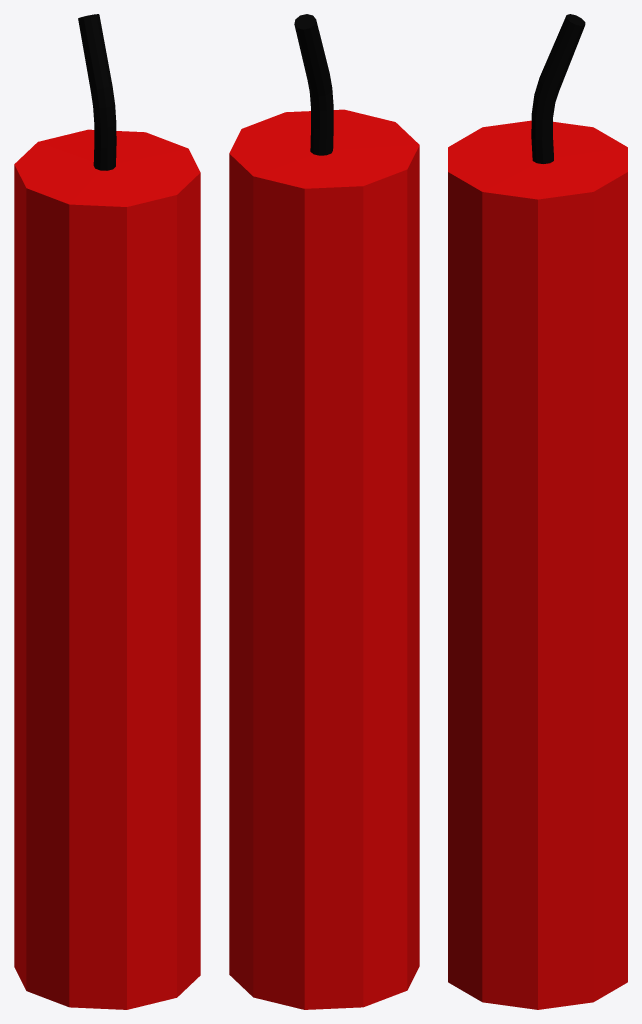
Rendered from Dynamite.fbx.
3 views of the same model, side by side, from view 1: azimuth 30°, elevation 25°; view 2: azimuth 150°, elevation 25°; view 3: azimuth 270°, elevation 25° (orthographic). The views are drawn at different scales.
Visible parts, largest first — view 1: Dynamite; view 2: Dynamite; view 3: Dynamite.
Part boxes in pixels (box(x1,y1,x2,y2)): Dynamite: box(14, 14, 200, 1009); Dynamite: box(229, 14, 419, 1009); Dynamite: box(448, 14, 627, 1009).
Bounding box in the file's own units: 0.5391 × 3 × 0.5127.
